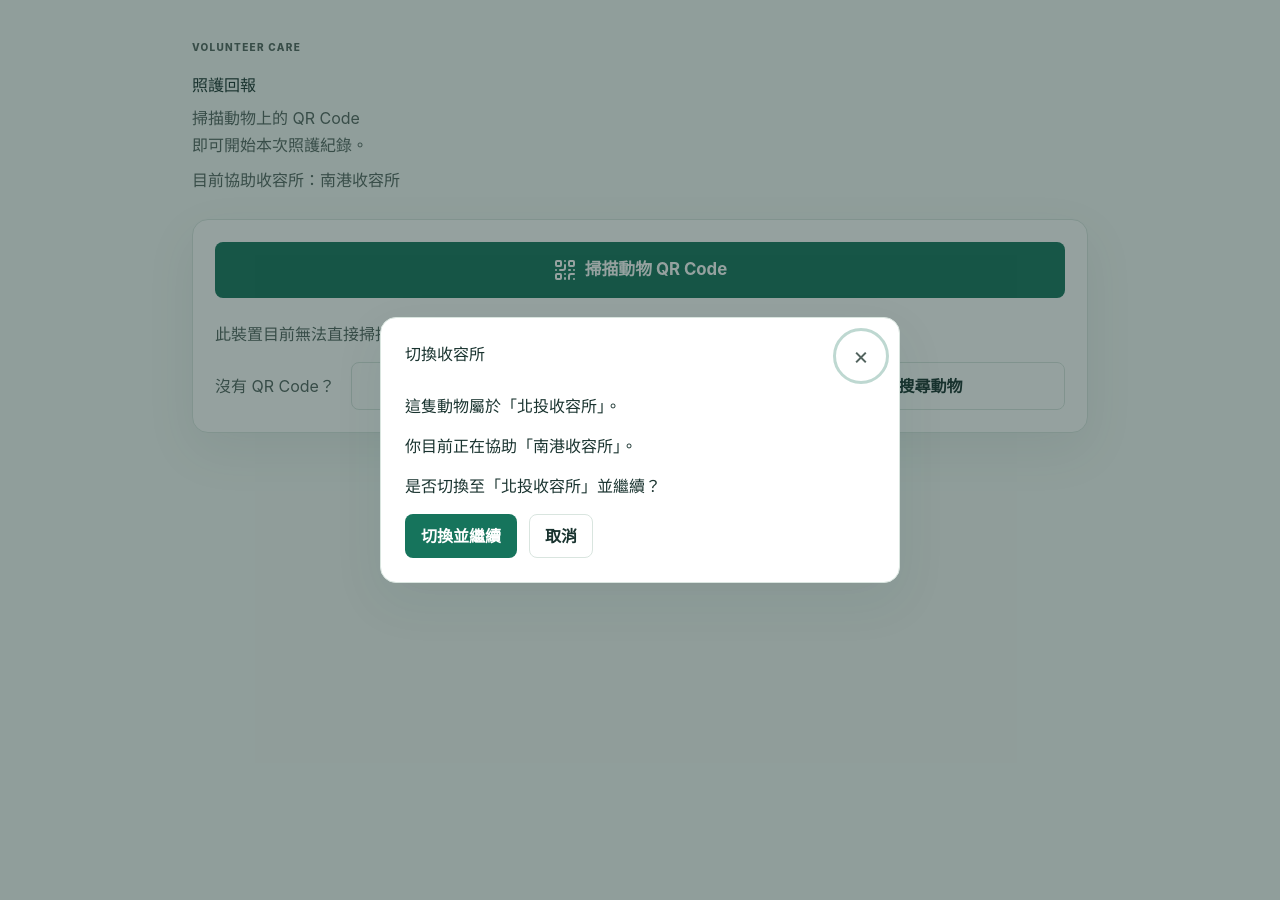
Test: QR-first animal confirmation page › switches only after confirmation, then resolves and shows the B animal
The width and height of the screenshot is (1280, 900).
Click the button "切換並繼續". click: [461, 536]
box: [405,514,517,558]
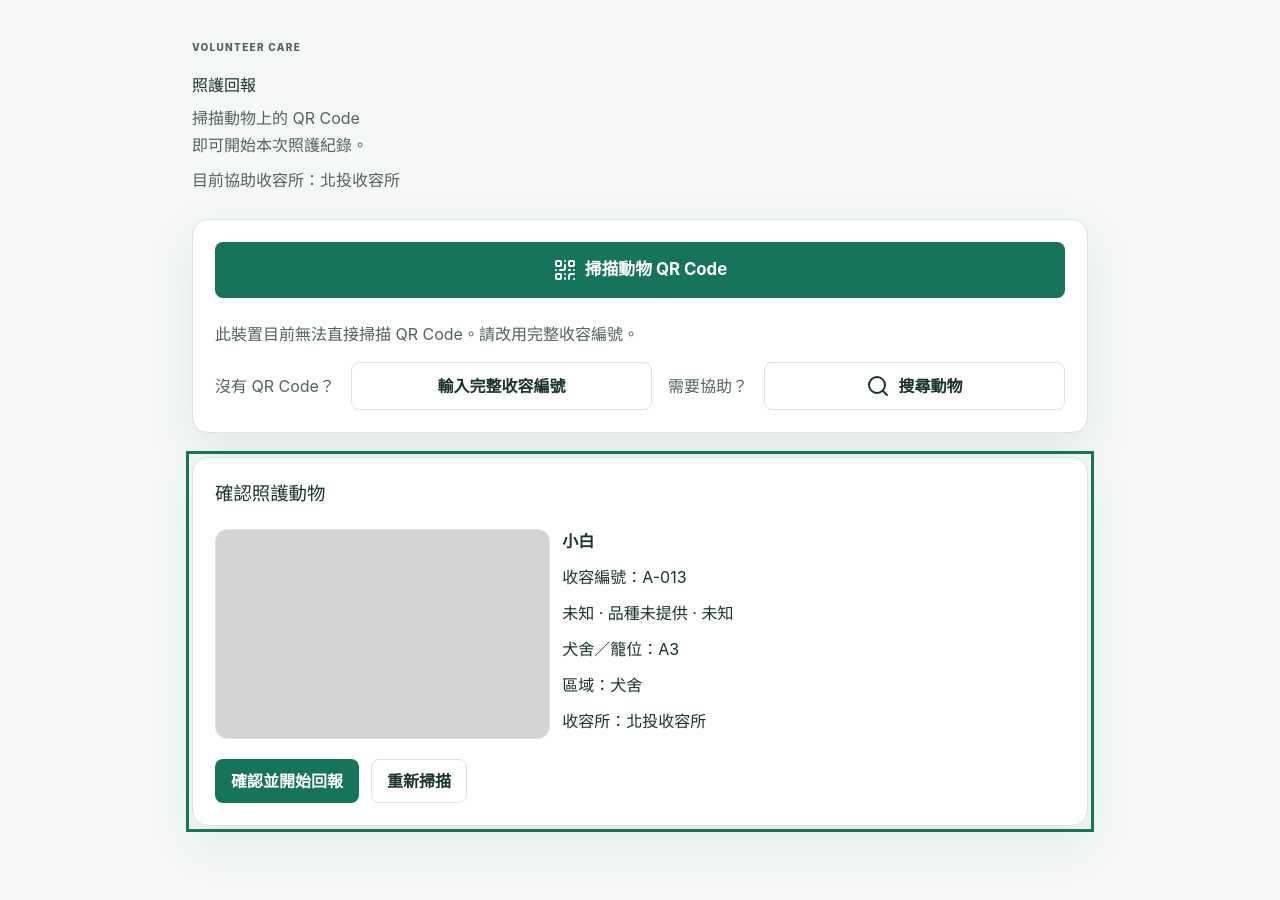
Check: the text "小白" is shown, box [562,531,594,551]
Check: the text "收容所：北投收容所" is shown, box [192,170,400,190]
